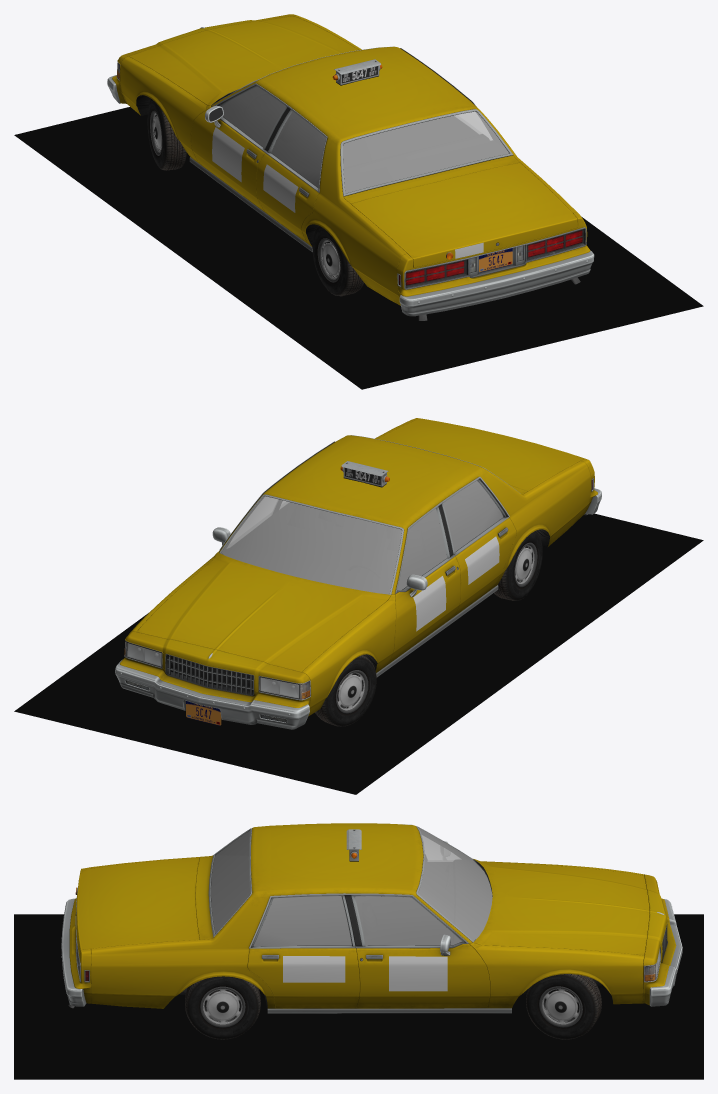
The model's file is chevroletCapriceTaxi_sketchfab.FBX.
The picture shows the model from 3 angles, top to bottom: view 1: azimuth 30°, elevation 25°; view 2: azimuth 150°, elevation 25°; view 3: azimuth 270°, elevation 25°; orthographic projection.
Parts seen in each view (by area): view 1: Body, shadow, Glass, Interior, Parts, signs, Lights, RL_wheel, FL_wheel, taxiSign, licencePlates; view 2: Body, shadow, Glass, Interior, Parts, FL_wheel, signs, RL_wheel, Lights, taxiSign, licencePlates; view 3: Body, shadow, Glass, Interior, Parts, FR_wheel, RR_wheel, signs, taxiSign.
Part boxes in pixels (x1,y1,x2,y2): Body: (112, 14, 590, 305); shadow: (14, 107, 703, 389); Glass: (221, 79, 509, 193); Interior: (222, 87, 508, 192); Parts: (107, 27, 594, 320); signs: (212, 127, 483, 258); Lights: (116, 62, 583, 286); RL_wheel: (312, 226, 363, 296); FL_wheel: (147, 99, 186, 170); taxiSign: (332, 59, 453, 259); licencePlates: (479, 248, 512, 272); Body: (120, 418, 597, 716); shadow: (14, 513, 703, 794); Glass: (127, 481, 503, 698); Interior: (221, 481, 502, 593); Parts: (115, 435, 601, 729); FL_wheel: (315, 655, 376, 726); signs: (413, 536, 499, 631); RL_wheel: (494, 530, 542, 600); Lights: (124, 480, 592, 722); taxiSign: (340, 461, 389, 487); licencePlates: (186, 701, 221, 725); Body: (69, 823, 676, 1008); shadow: (14, 914, 703, 1079); Glass: (211, 828, 660, 977); Interior: (211, 828, 492, 945); Parts: (61, 824, 682, 1013); FR_wheel: (526, 974, 601, 1039); RR_wheel: (185, 976, 260, 1039); signs: (76, 893, 447, 991); taxiSign: (75, 829, 361, 894).
Size of the model in its own units: 341 by 150 by 600.
